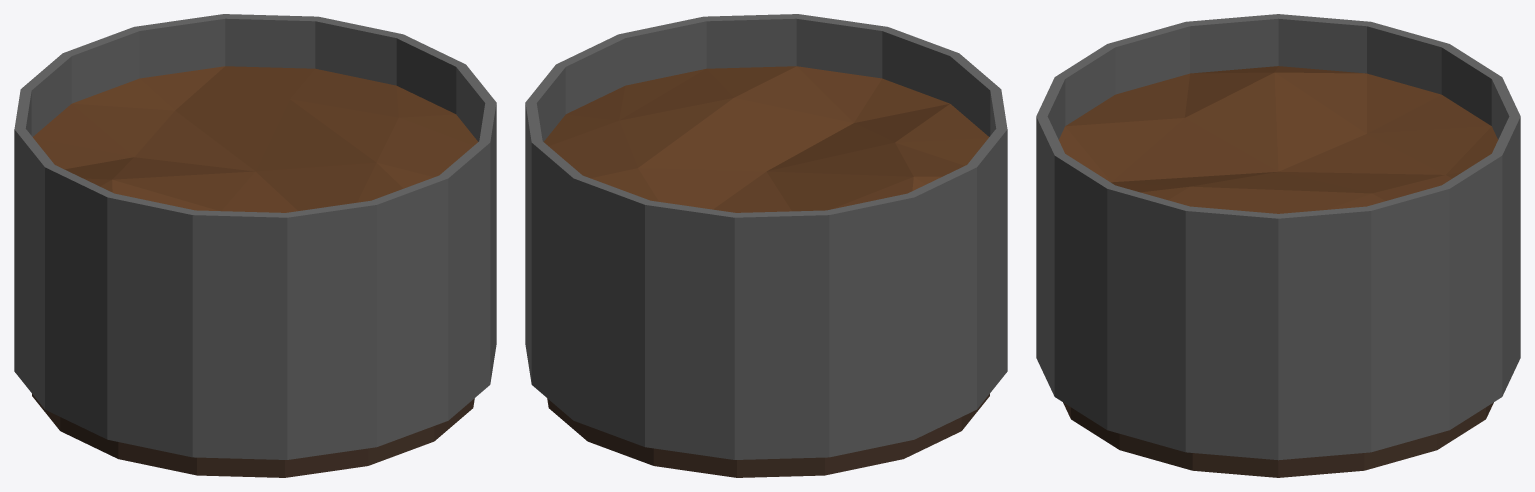
The model's file is LargePot.fbx.
The picture shows the model from 3 angles, left to right: view 1: azimuth 30°, elevation 25°; view 2: azimuth 150°, elevation 25°; view 3: azimuth 270°, elevation 25°; orthographic projection.
Parts seen in each view (by area): view 1: LargePot; view 2: LargePot; view 3: LargePot.
Part boxes in pixels (bbox=[...]): LargePot: bbox=[14, 14, 496, 477]; LargePot: bbox=[525, 14, 1007, 477]; LargePot: bbox=[1036, 14, 1520, 477].
Bounding box in the file's own units: 1.5 × 1.5 × 0.911.
